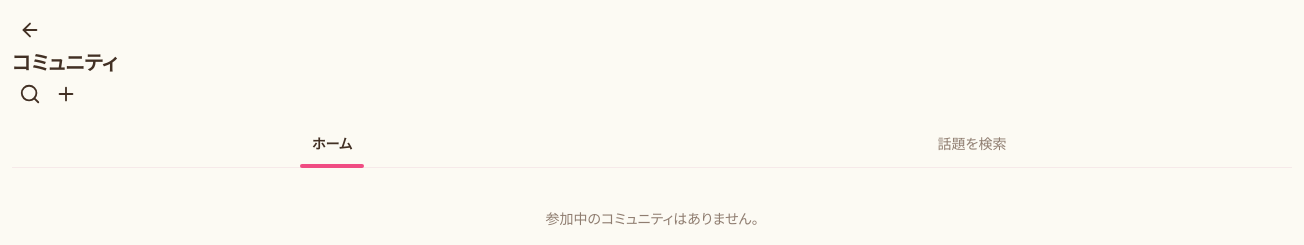
Scenario: shows empty cloud data without invented communities or posts
This screenshot has width=1304, height=245.
Expected: the text "参加中のコミュニティはありません。" is shown, [546,209,759,228]
Step 1. Click the tab "話題を検索" → (972, 144), box [652,112,1292,176]
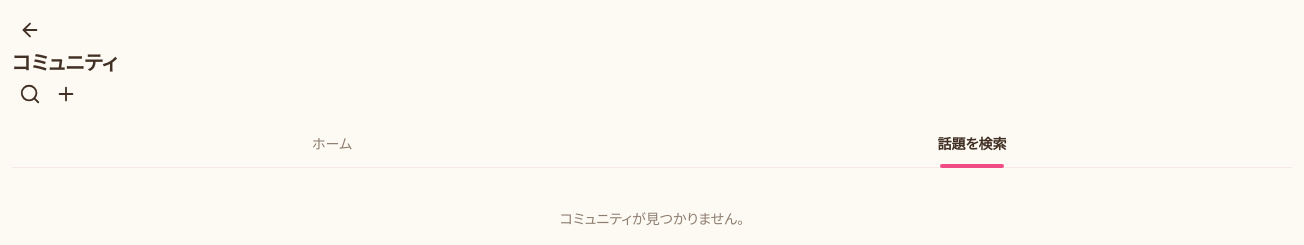
Now the text "コミュニティが見つかりません。" is shown, box [560,209,744,228]
